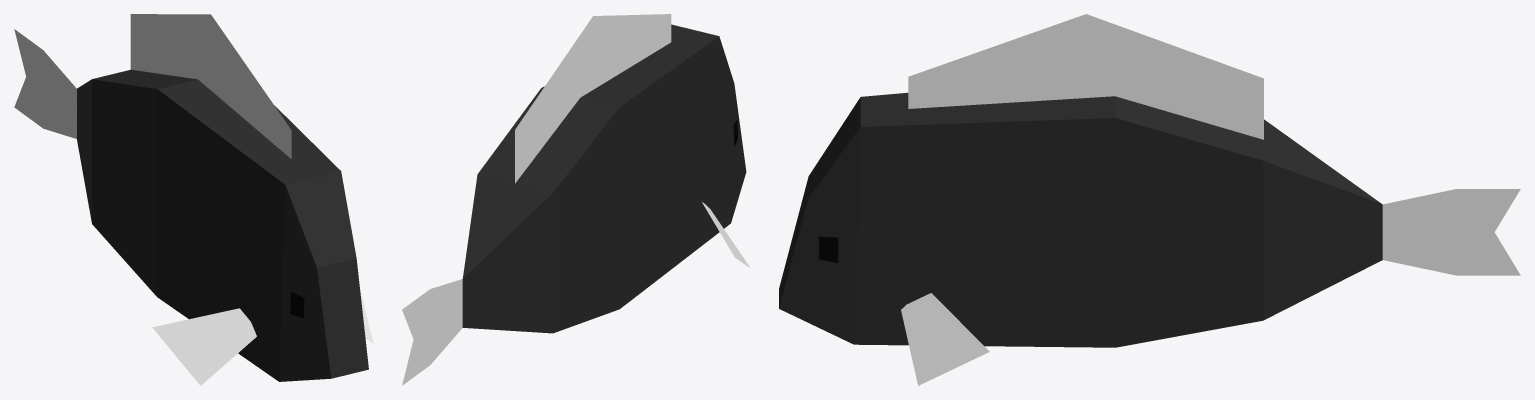
File: 01tuna.fbx
3 renders of one model, left to right at view 1: azimuth 30°, elevation 25°; view 2: azimuth 150°, elevation 25°; view 3: azimuth 270°, elevation 25°, orthographic. The views are drawn at different scales.
Visible parts, largest first — view 1: Tropical Fish 01; view 2: Tropical Fish 01; view 3: Tropical Fish 01.
Part boxes in pixels (x1,y1,x2,y2): Tropical Fish 01: (14, 14, 373, 385); Tropical Fish 01: (402, 14, 750, 385); Tropical Fish 01: (779, 14, 1520, 385).
Bounding box in the file's own units: 88.27 × 121 × 250.
